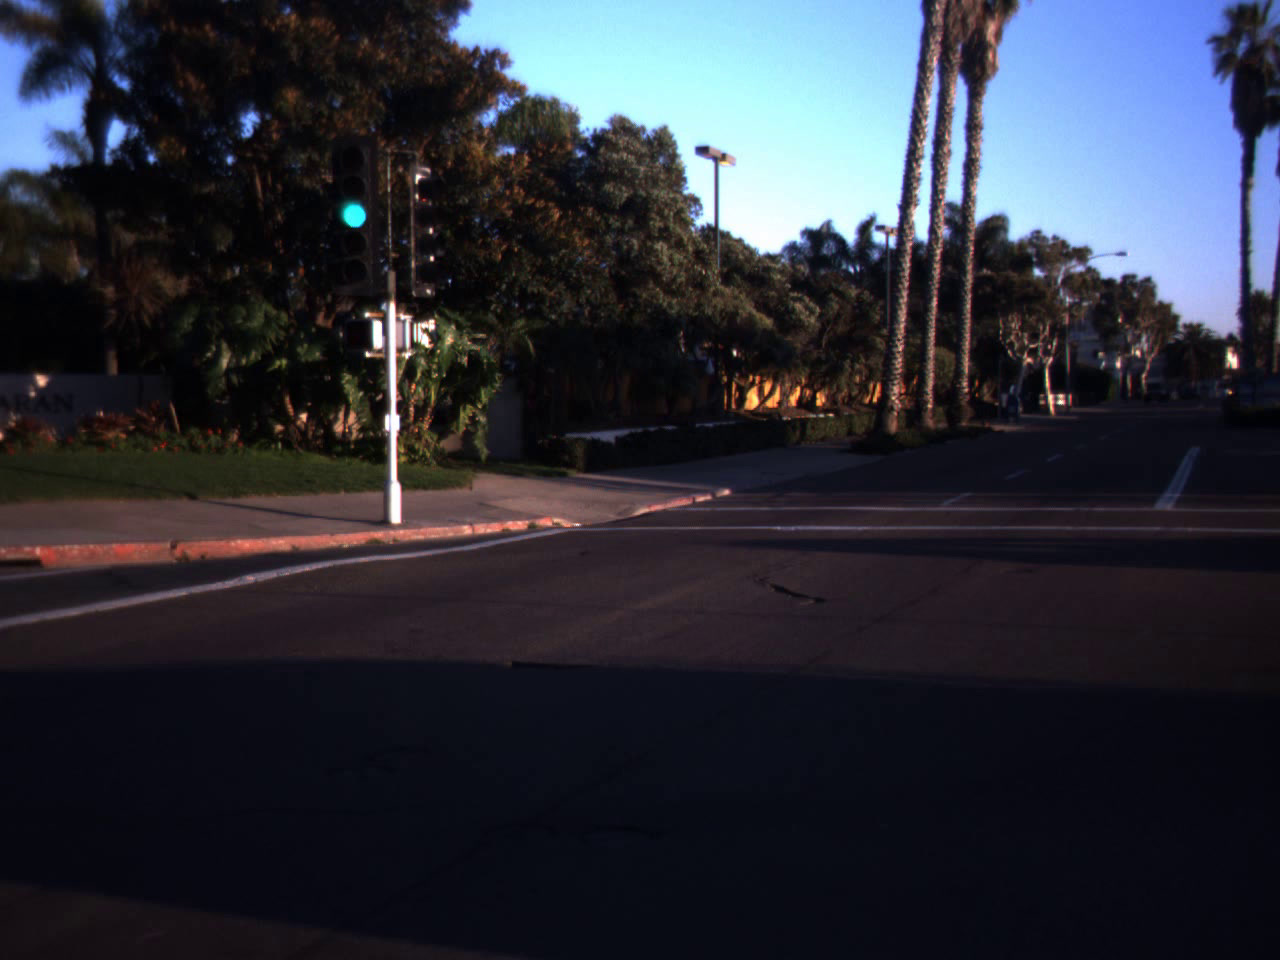go: (323, 128, 386, 238)
